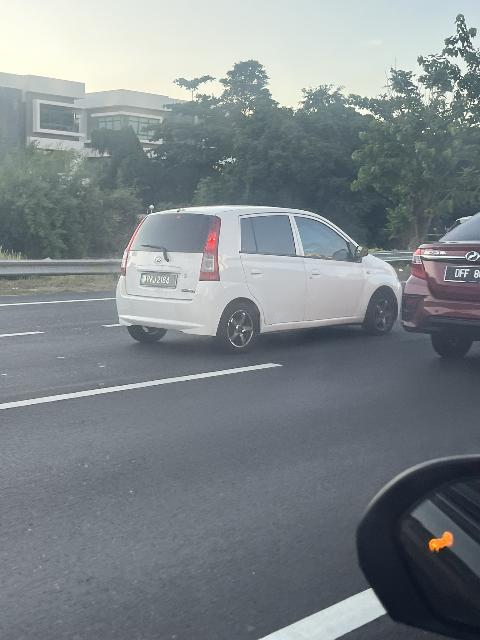License_Plate: (133, 271, 181, 294)
car: (108, 203, 398, 343)
